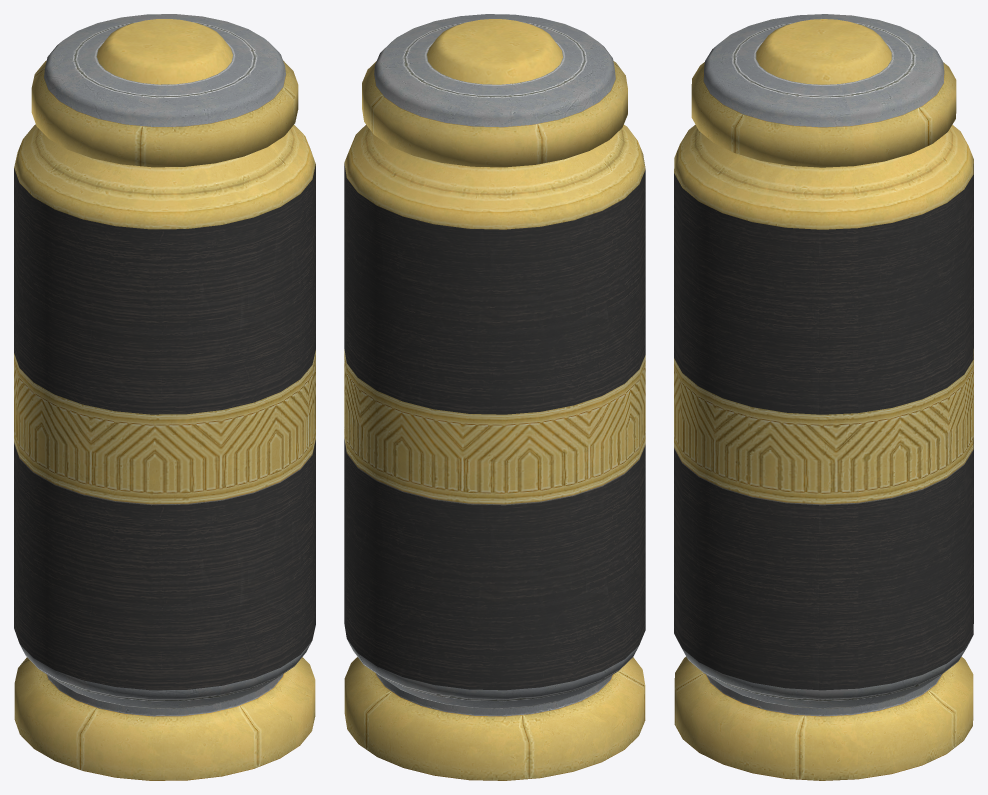
File: relics_02.glb
3 views of the same model, side by side, from view 1: azimuth 30°, elevation 25°; view 2: azimuth 150°, elevation 25°; view 3: azimuth 270°, elevation 25° (orthographic).
Parts seen in each view (by area): view 1: Vessel_01; view 2: Vessel_01; view 3: Vessel_01.
Part boxes in pixels (x1,y1,x2,y2): Vessel_01: (14,14,315,780); Vessel_01: (344,14,645,780); Vessel_01: (674,14,973,780).
Bounding box in the file's own units: 0.4484 × 1.11 × 0.4458.
Materials: 1 (1 with a texture image).
